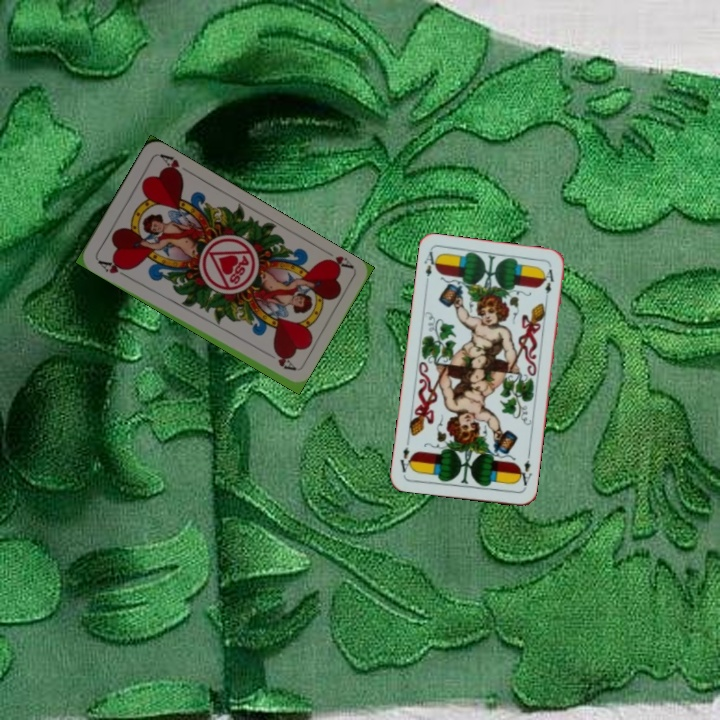EA: (514, 450, 535, 491), (420, 247, 440, 279)
HA: (93, 256, 132, 280), (319, 252, 356, 273)
